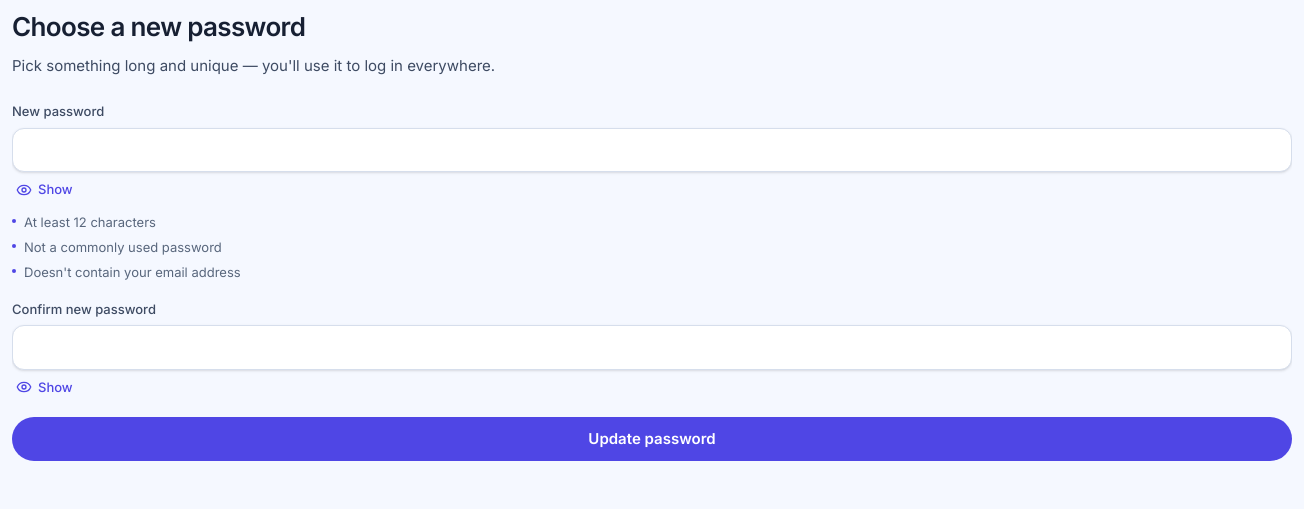
Test case: ResetPasswordForm › rejects mismatched passwords client-side
In the password field labelled "New password": point(652, 150) left=12, top=128, right=1292, bottom=172, type "new-password-12x"
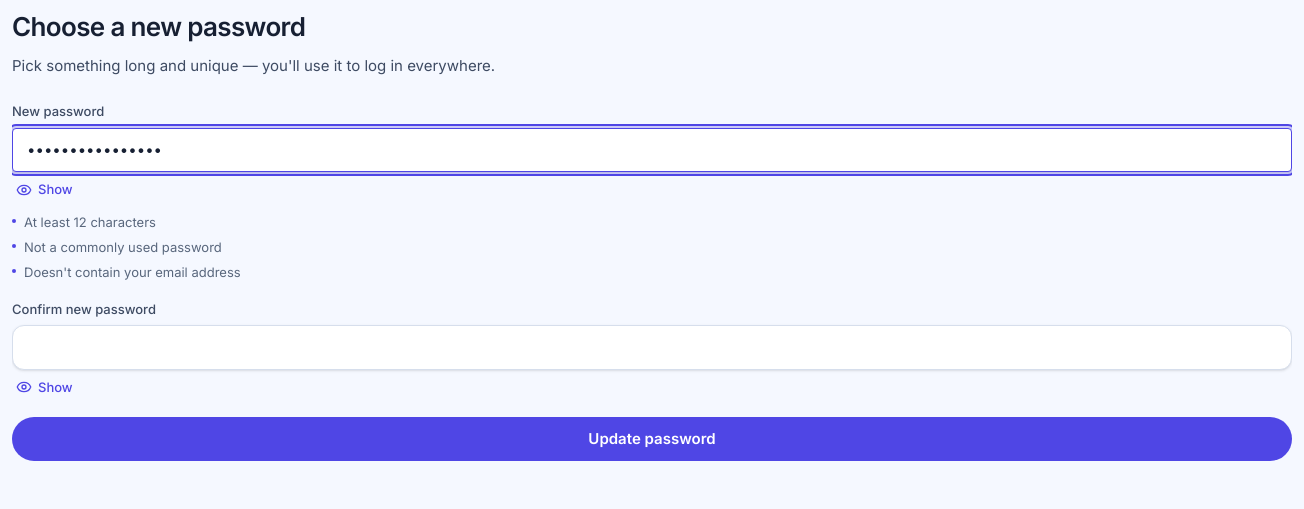
In the password field labelled "Confirm new password": point(652, 347) left=12, top=325, right=1292, bottom=370, type "new-password-12y"
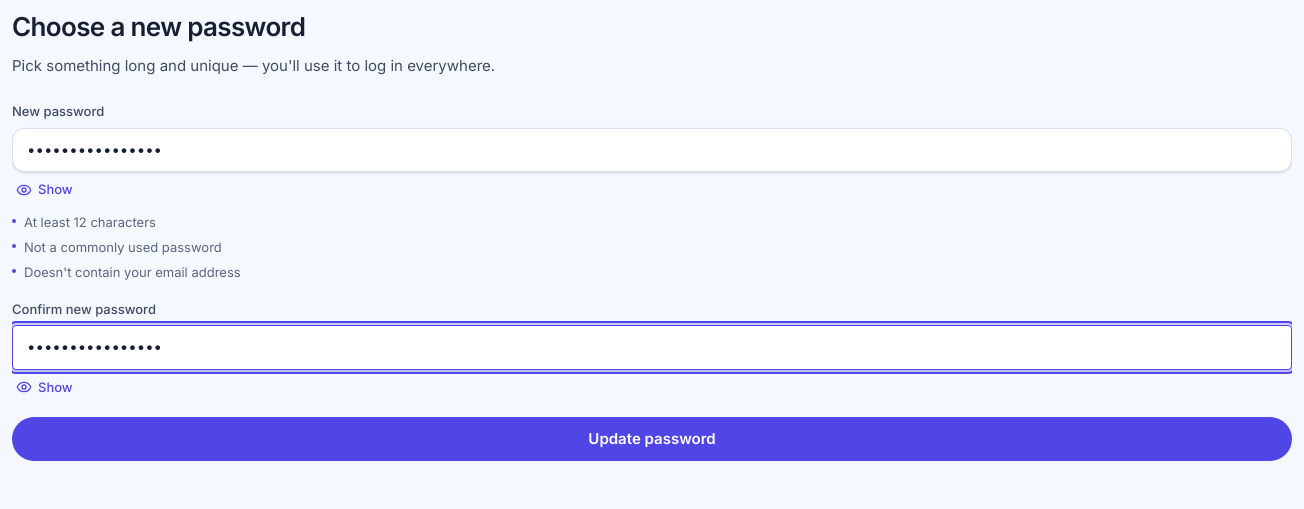
Click the button "Update password": point(652, 439) left=12, top=417, right=1292, bottom=461
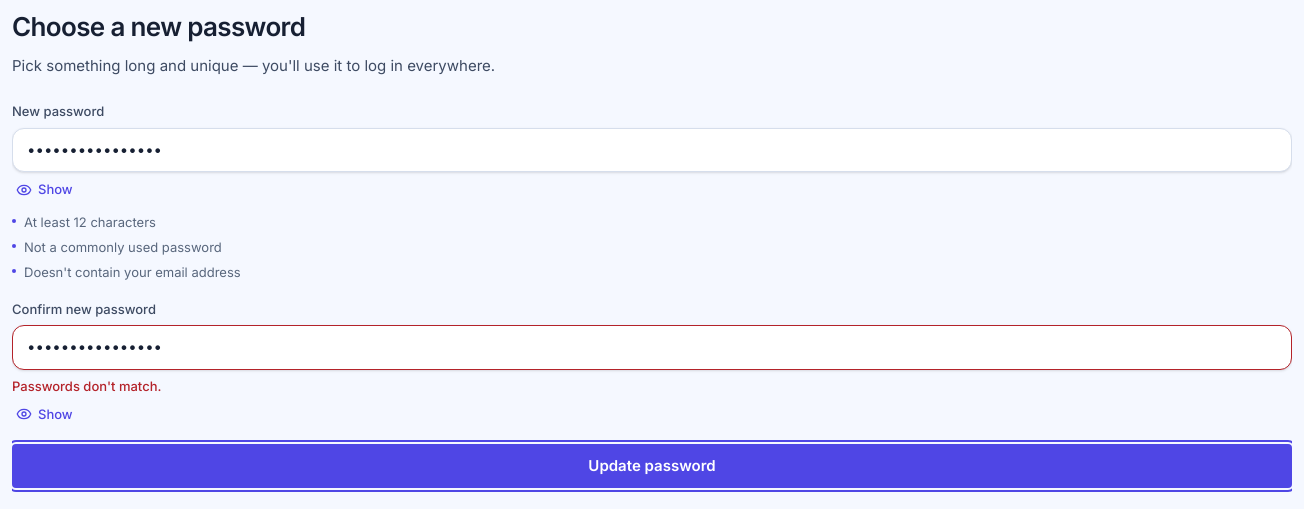
Now the text "Passwords don't match." is shown, box left=12, top=378, right=161, bottom=394
